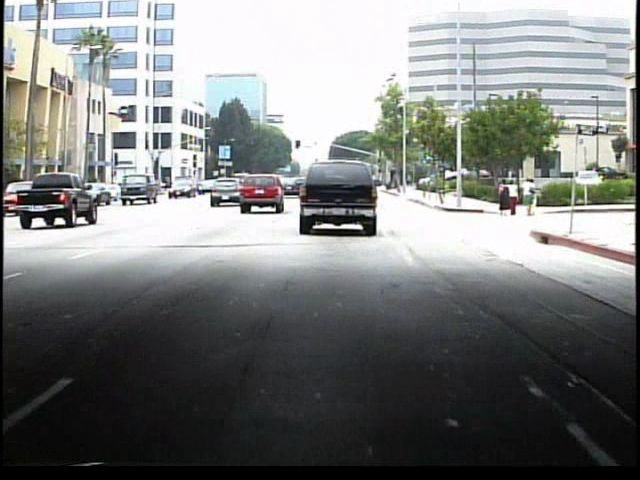person: (521, 177, 537, 219), (494, 178, 509, 215), (506, 179, 519, 217)
